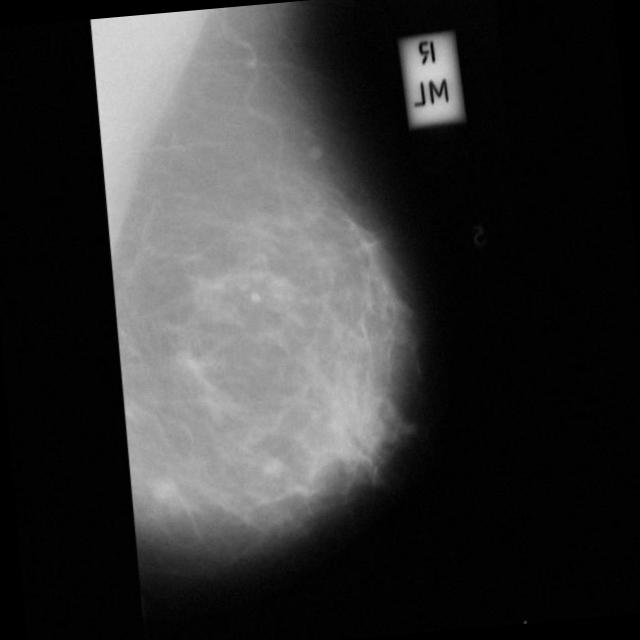MISC: (151, 476, 178, 503)
